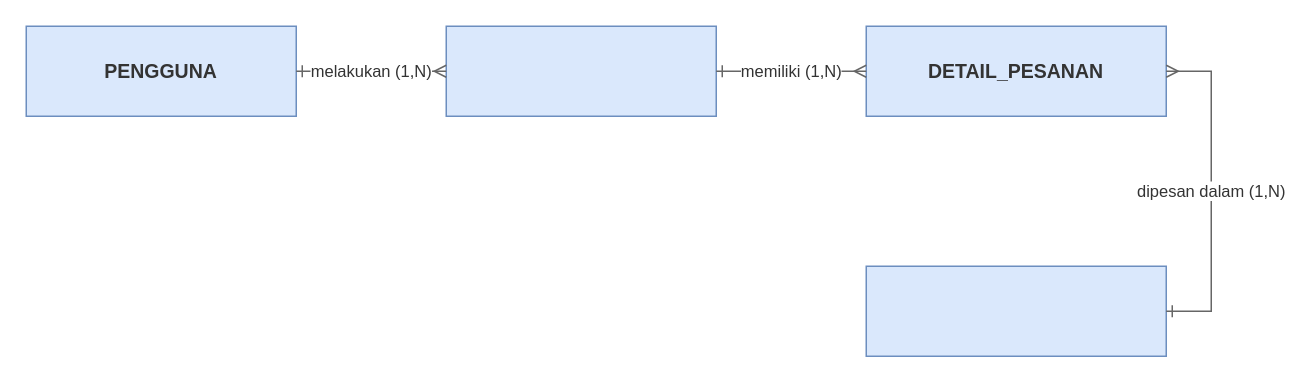
This 1311x383 diagram has some shape labels left out. The centre of each missing label's shape, as x and y in pixels:
"MENU" belongs at (x=1015, y=310).
"PESANAN" belongs at (x=580, y=70).
